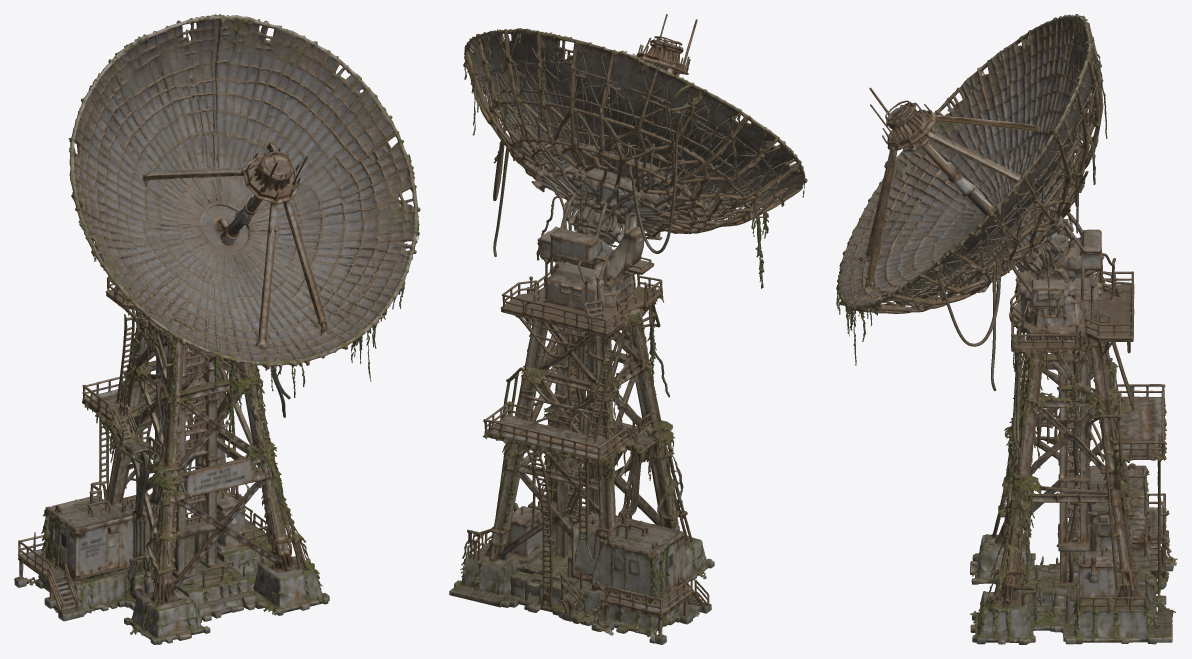
The model's file is radar_dish.glb.
The picture shows the model from 3 angles, left to right: view 1: azimuth 30°, elevation 25°; view 2: azimuth 150°, elevation 25°; view 3: azimuth 270°, elevation 25°; orthographic projection. The views are drawn at different scales.
Visible parts, largest first — view 1: radar_dish; view 2: radar_dish; view 3: radar_dish.
Part boxes in pixels (x1,y1,x2,y2): radar_dish: [14, 14, 420, 644]; radar_dish: [449, 14, 807, 644]; radar_dish: [836, 14, 1177, 644].
Bounding box in the file's own units: 116 × 190 × 105.
1 material, 1 textured.
